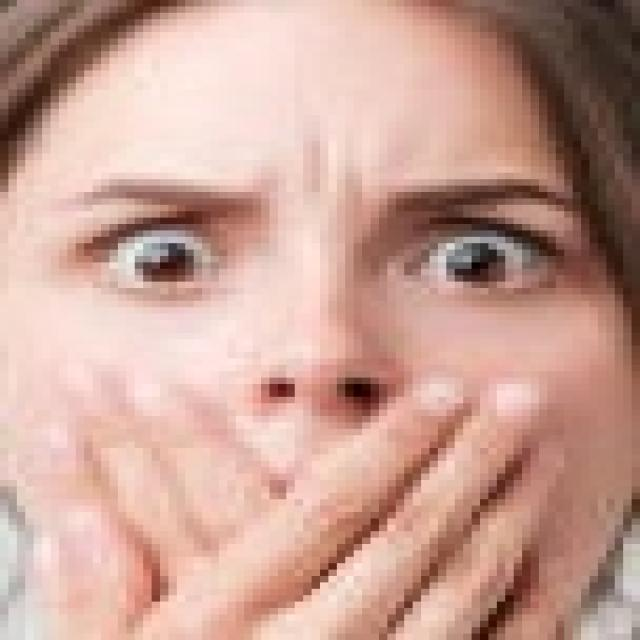Anxiety: (0, 0, 632, 634)
